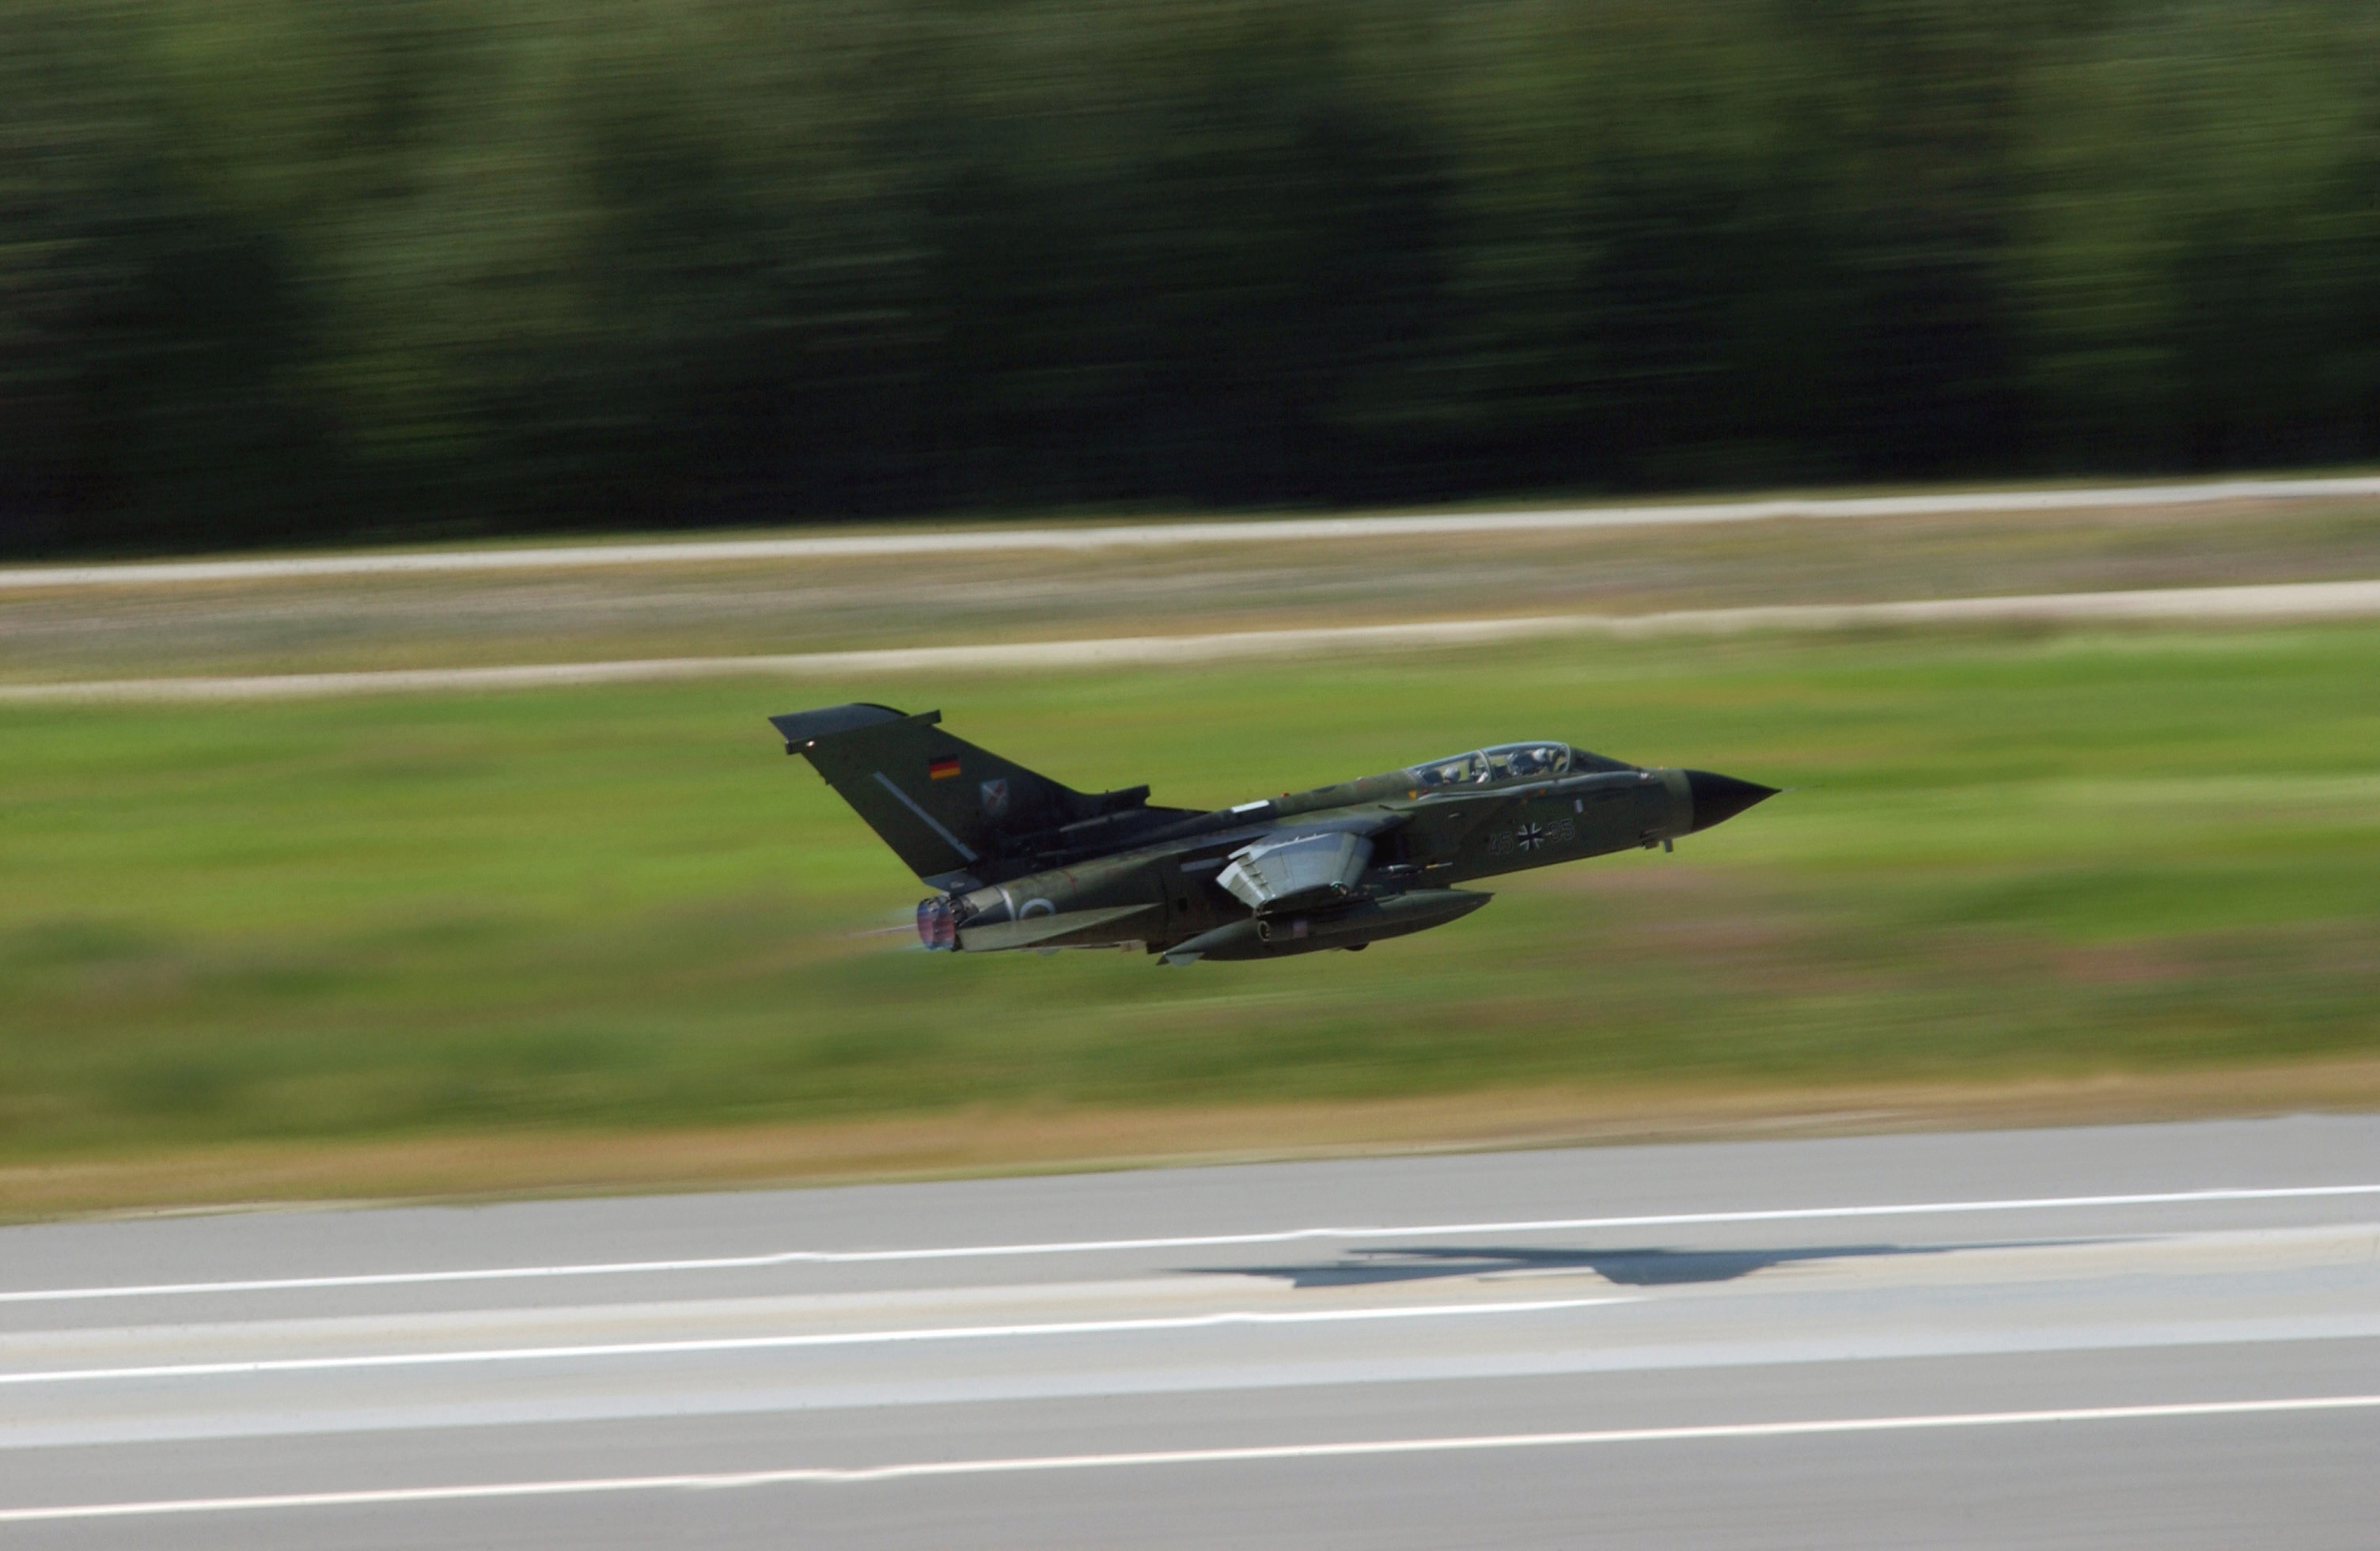Tornado: (765, 701, 1825, 966)
